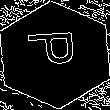P_E: (26, 35, 84, 75)
